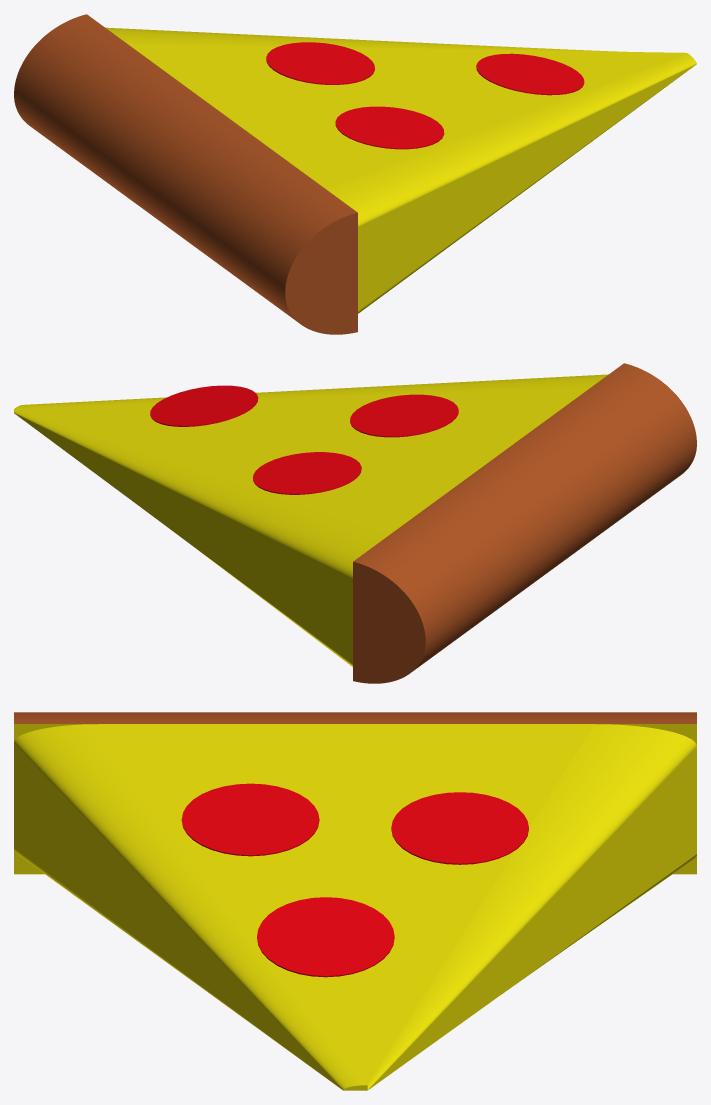
The model's file is pizza.fbx.
The picture shows the model from 3 angles, top to bottom: view 1: azimuth 30°, elevation 25°; view 2: azimuth 150°, elevation 25°; view 3: azimuth 270°, elevation 25°; orthographic projection. The views are drawn at different scales.
Visible parts, largest first — view 1: Cube, Cylinder, Cylinder.001, Cylinder.002; view 2: Cube, Cylinder.001, Cylinder, Cylinder.002; view 3: Cube, Cylinder.002, Cylinder.001, Cylinder.
Boxes of the visible parts, left/top/right/bottom form: Cube: left=14, top=14, right=696, bottom=334; Cylinder: left=335, top=106, right=444, bottom=149; Cylinder.001: left=266, top=42, right=374, bottom=84; Cylinder.002: left=476, top=53, right=584, bottom=95; Cube: left=14, top=363, right=696, bottom=683; Cylinder.001: left=253, top=452, right=361, bottom=494; Cylinder: left=350, top=394, right=458, bottom=437; Cylinder.002: left=150, top=385, right=258, bottom=426; Cube: left=14, top=712, right=696, bottom=1090; Cylinder.002: left=257, top=897, right=394, bottom=977; Cylinder.001: left=391, top=792, right=528, bottom=864; Cylinder: left=181, top=783, right=319, bottom=856.
Bounding box in the file's own units: 231 × 48.56 × 200.
